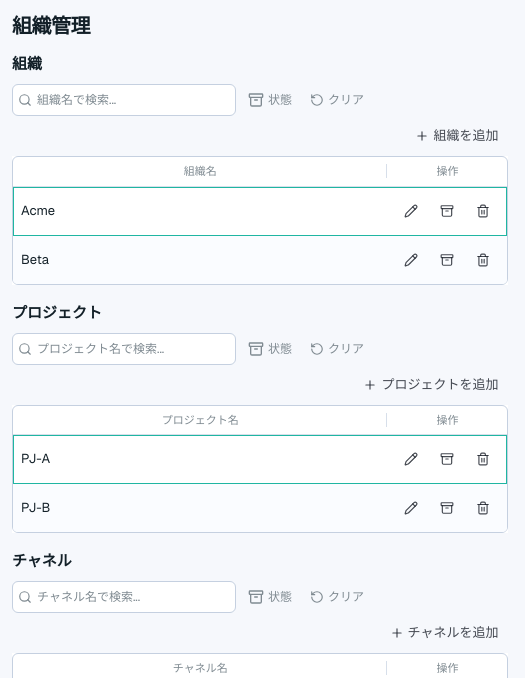
Test case: OrganizationsScreen 3 ペイン（set-0162） › 絞り込みで 0 件のときは「見つかりませんでした」を出す（v2-166 でも維持）
Type "zzz" into the search field labelled "プロジェクト名で検索..." at x=124, y=348, box [12,332,236,364]
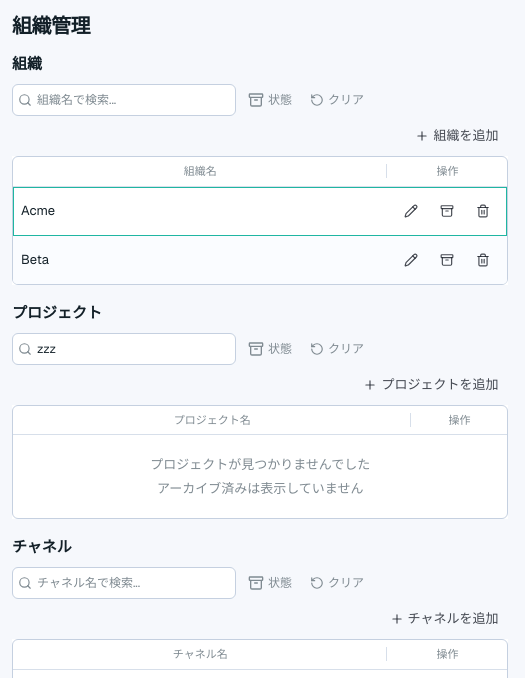
Type "zzz" into the search field labelled "チャネル名で検索..." at x=124, y=583, box [12,567,236,599]
(page scrolled)
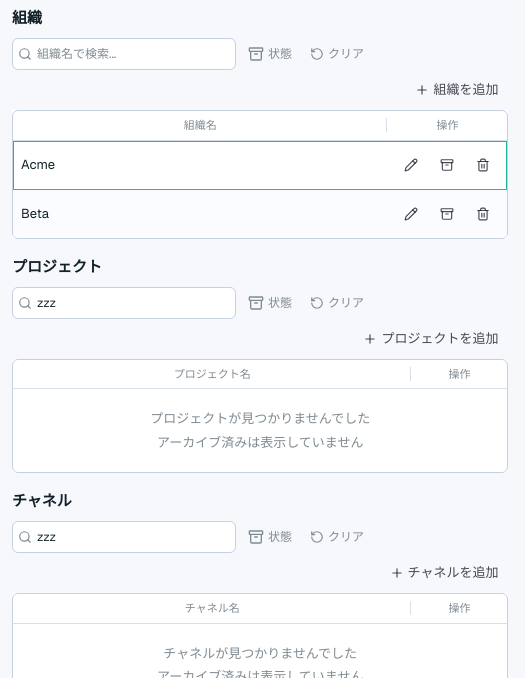
Expected: the text "プロジェクトが見つかりませんでした" is shown, [150,410,370,427]
Expected: the text "チャネルが見つかりませんでした" is shown, [163,644,357,662]
